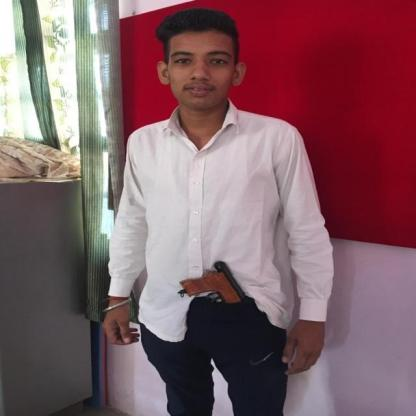handgun: (176, 258, 265, 328)
